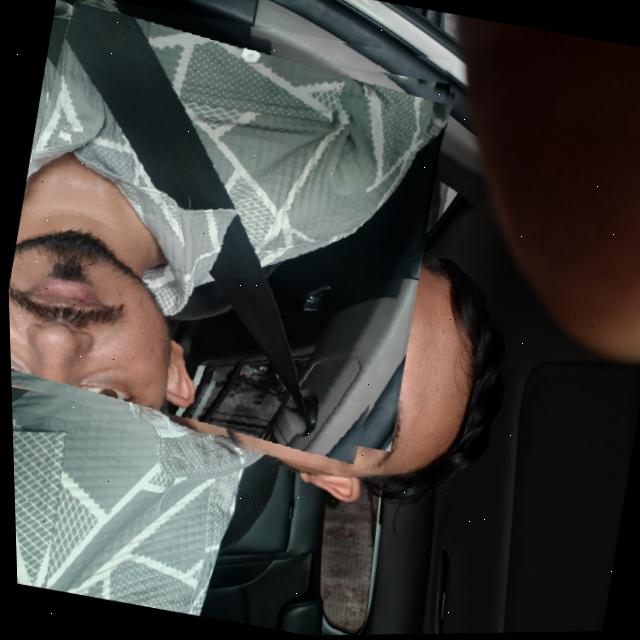seatbelt: (0, 0, 459, 480)
